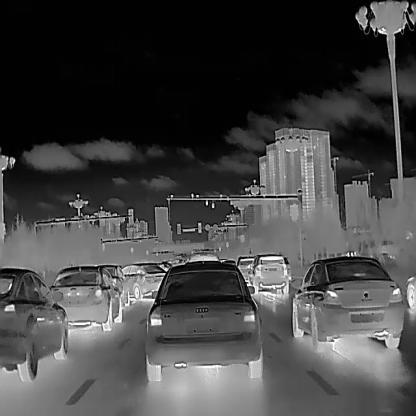car: (144, 259, 263, 380), (291, 255, 405, 350), (0, 265, 68, 380), (46, 266, 122, 331), (118, 264, 167, 300), (249, 255, 289, 294), (97, 262, 130, 309), (235, 255, 255, 283)
